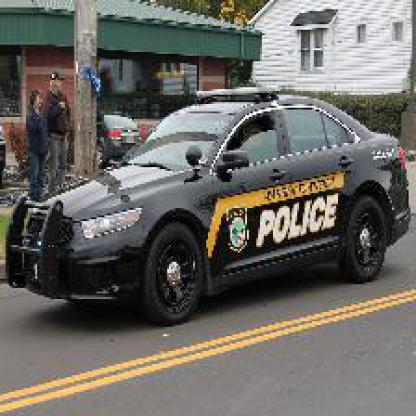emergency: (6, 82, 412, 327)
